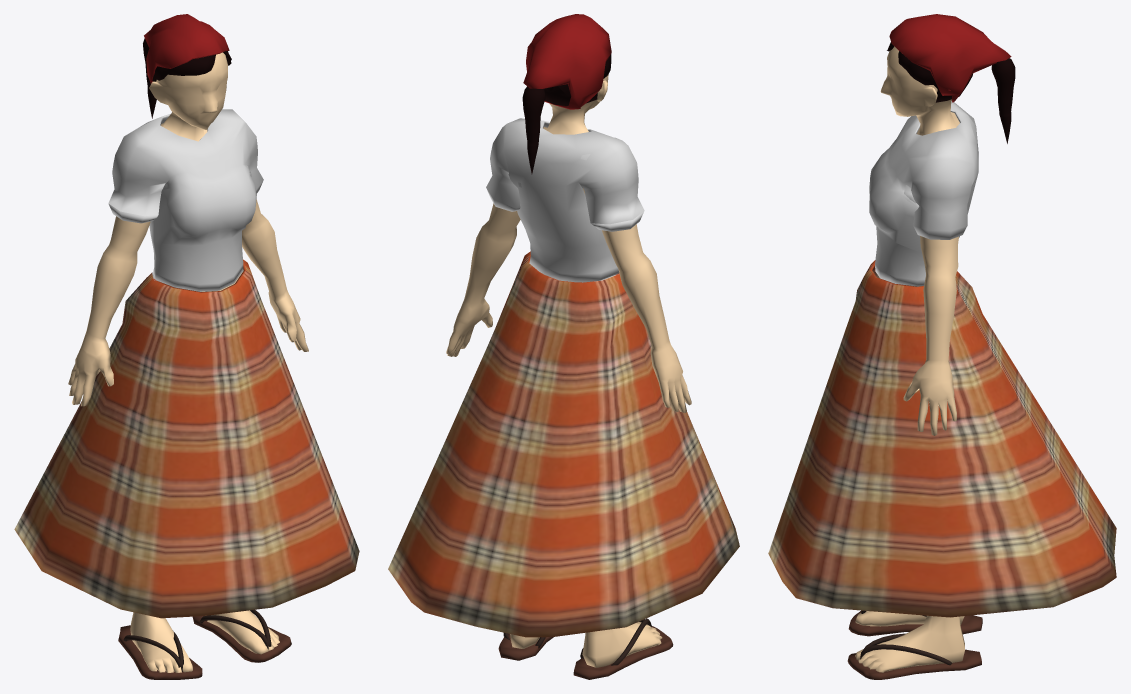
The model's file is Piya.glb.
3 renders of one model, left to right at view 1: azimuth 30°, elevation 25°; view 2: azimuth 150°, elevation 25°; view 3: azimuth 270°, elevation 25°, orthographic.
Parts seen in each view (by area): view 1: Piya; view 2: Piya; view 3: Piya.
Boxes of the visible parts, left/top/right/bottom form: Piya: left=14, top=14, right=359, bottom=679; Piya: left=388, top=14, right=739, bottom=679; Piya: left=768, top=14, right=1116, bottom=679.
Bounding box in the file's own units: 1.16 × 2.46 × 1.23.
1 material, 1 textured.
